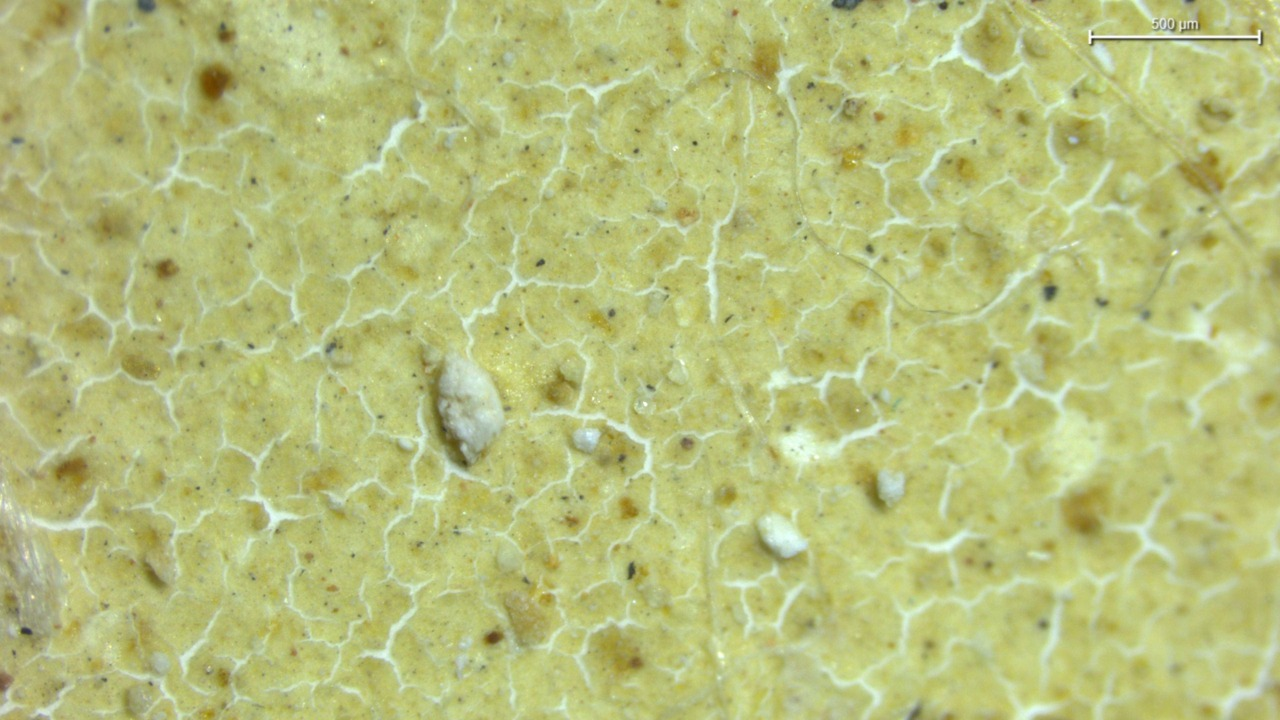microplastic_fragment: (437, 352, 505, 464), (757, 514, 808, 558), (877, 469, 905, 506), (572, 427, 601, 453)
